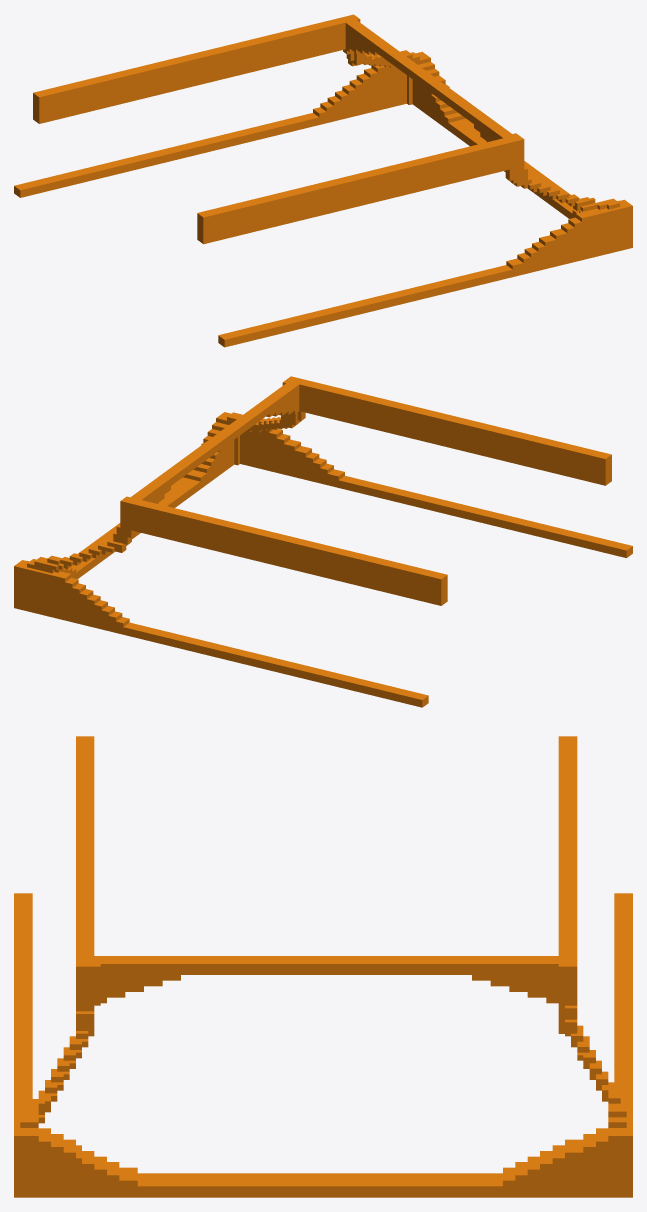
The model's file is escena nave interior-8-navedelantera.obj.
The picture shows the model from 3 angles, top to bottom: view 1: azimuth 30°, elevation 25°; view 2: azimuth 150°, elevation 25°; view 3: azimuth 270°, elevation 25°; orthographic projection. The views are drawn at different scales.
Visible parts, largest first — view 1: navedelantera; view 2: navedelantera; view 3: navedelantera.
Part boxes in pixels (x1,y1,x2,y2): navedelantera: (14,14,632,347); navedelantera: (14,376,632,707); navedelantera: (14,736,632,1197).
Size of the model in its own units: 11.2 by 3 by 10.
1 material, 1 textured.
